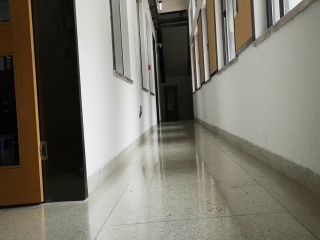room: (1, 3, 87, 204)
